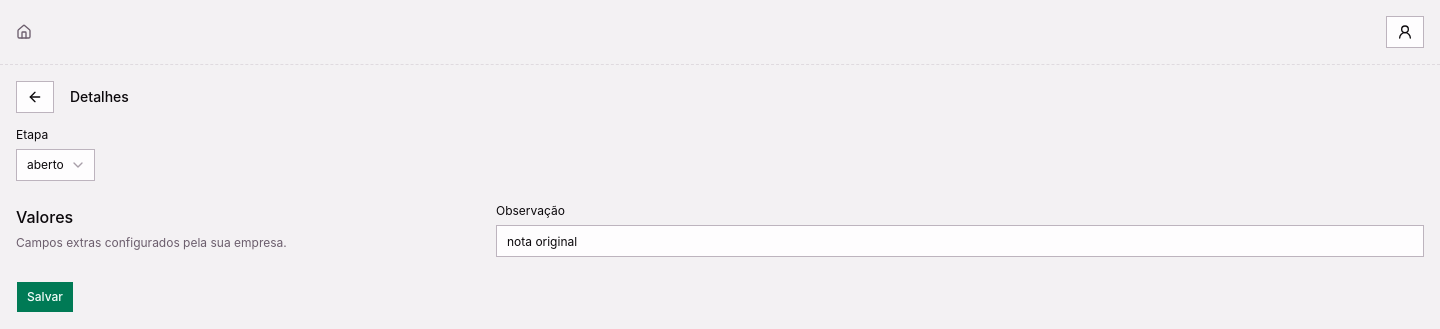
Test: ProcessDetailsPage — stage control (T27, WEB-08 + WEB-17) › WEB-08 AC3: the stage control’s options are EXACTLY the record’s own snapshot stages, never free-text or every stage ever seen
Click the dropdown: (55, 165) [16,149,95,181]
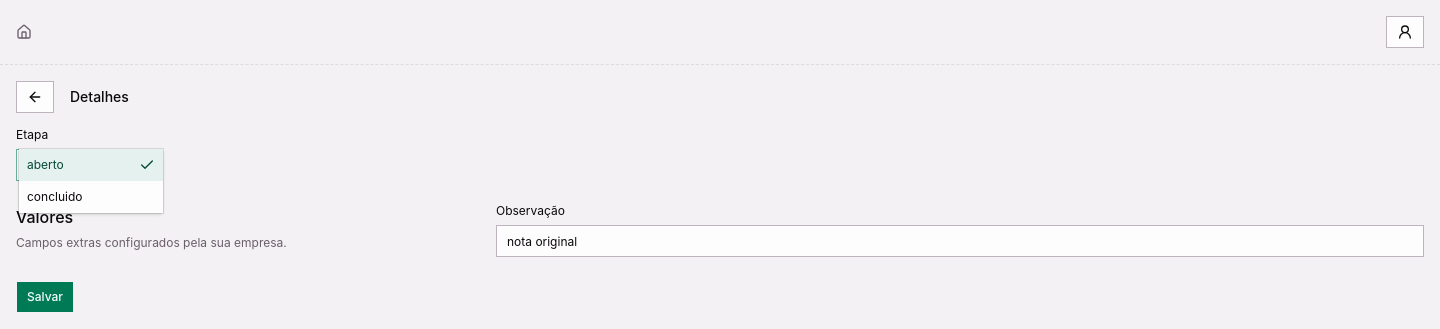
expect the option "aberto" is shown: met, box [19,149,163,181]
expect the option "concluido" is shown: met, box [27,189,82,204]
expect the number of options is 2: met, box [19,149,163,181]; [27,189,82,204]
